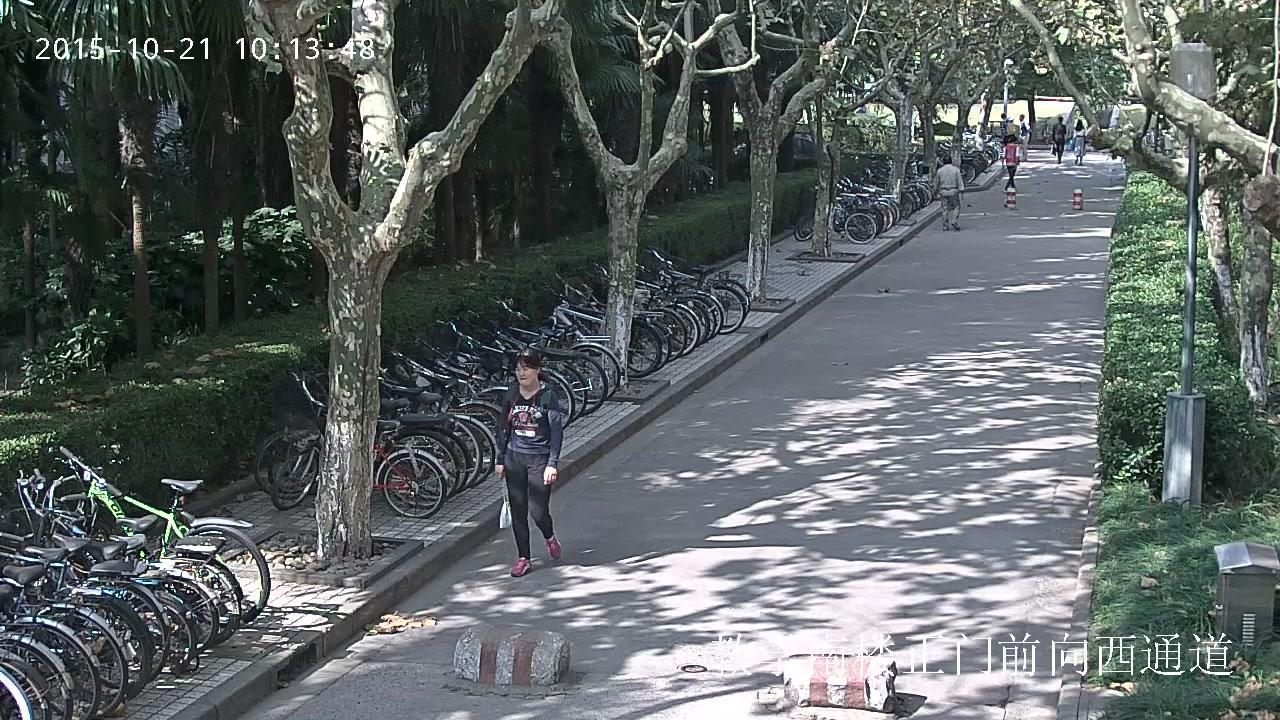face: (516, 360, 535, 386)
